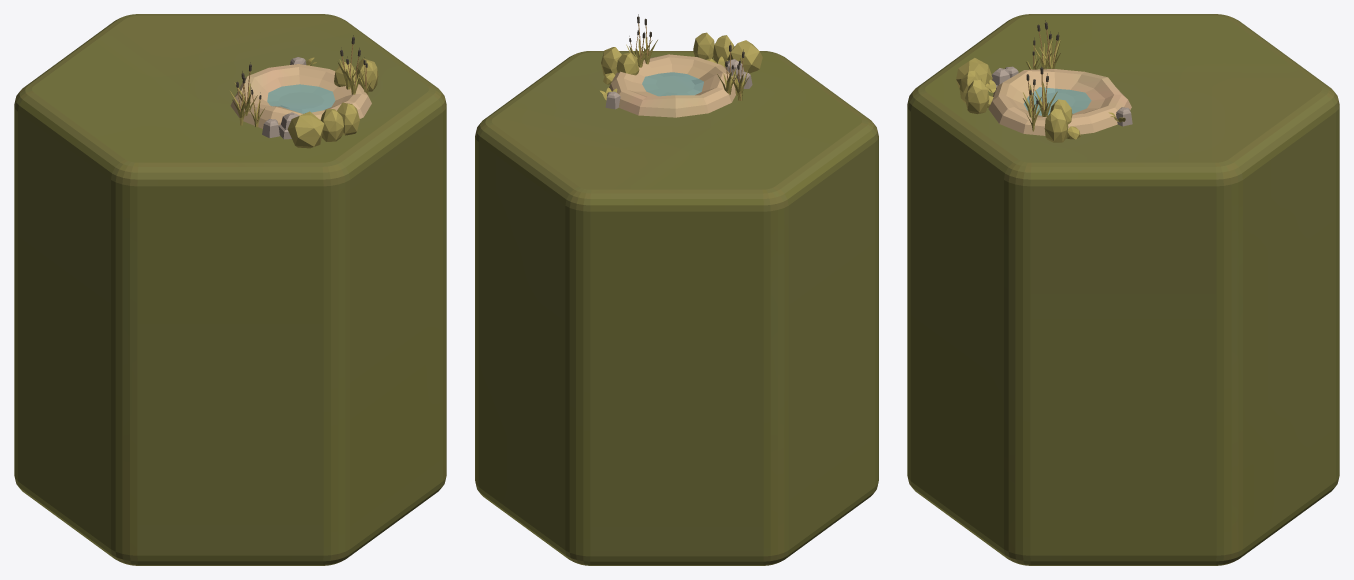
The model's file is Hex-projects.glb.
The picture shows the model from 3 angles, left to right: view 1: azimuth 30°, elevation 25°; view 2: azimuth 150°, elevation 25°; view 3: azimuth 270°, elevation 25°; orthographic projection. The views are drawn at different scales.
Visible parts, largest first — view 1: Cylinder, Sphere.029_Material.001_0, Icosphere.021_Material.001_0, Icosphere.020_Material.001_0, Icosphere.024_Material.001_0, Plane.089_Material.001_0, Plane.091_Material.001_0; view 2: Cylinder, Sphere.029_Material.001_0, Icosphere.024_Material.001_0, Icosphere.021_Material.001_0, Icosphere.020_Material.001_0, Plane.089_Material.001_0, Plane.091_Material.001_0; view 3: Cylinder, Sphere.029_Material.001_0, Icosphere.024_Material.001_0, Icosphere.021_Material.001_0, Plane.091_Material.001_0, Plane.089_Material.001_0, Icosphere.020_Material.001_0.
Boxes of the visible parts, x1,y1,x2,y2 form: Cylinder: [14, 14, 446, 565]; Sphere.029_Material.001_0: [230, 57, 371, 139]; Icosphere.021_Material.001_0: [320, 102, 359, 141]; Icosphere.020_Material.001_0: [287, 111, 324, 148]; Icosphere.024_Material.001_0: [334, 58, 378, 91]; Plane.089_Material.001_0: [230, 62, 264, 127]; Plane.091_Material.001_0: [338, 35, 374, 94]; Cylinder: [475, 51, 878, 565]; Sphere.029_Material.001_0: [600, 54, 752, 117]; Icosphere.024_Material.001_0: [601, 47, 639, 84]; Icosphere.021_Material.001_0: [693, 32, 734, 63]; Icosphere.020_Material.001_0: [727, 40, 762, 73]; Plane.089_Material.001_0: [717, 42, 748, 100]; Plane.091_Material.001_0: [626, 14, 657, 67]; Cylinder: [907, 14, 1339, 565]; Sphere.029_Material.001_0: [985, 66, 1132, 135]; Icosphere.024_Material.001_0: [1044, 99, 1080, 142]; Icosphere.021_Material.001_0: [959, 71, 993, 113]; Plane.091_Material.001_0: [1023, 66, 1057, 131]; Plane.089_Material.001_0: [1026, 20, 1060, 69]; Icosphere.020_Material.001_0: [956, 58, 992, 87].
Bounding box in the file's own units: 1.73 × 2.32 × 1.95.
3 materials, 3 textured.
